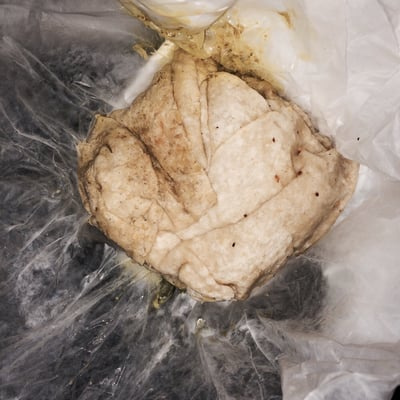soup: (71, 35, 364, 304)
